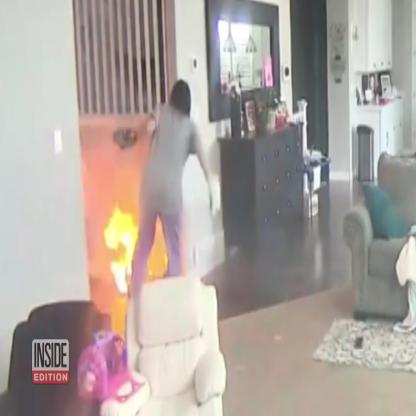fire: (104, 204, 139, 294)
